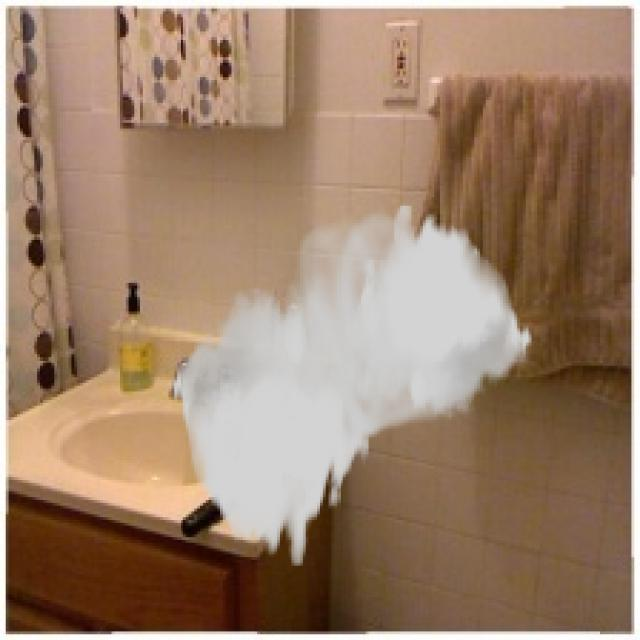Smoke: (172, 203, 534, 566)
